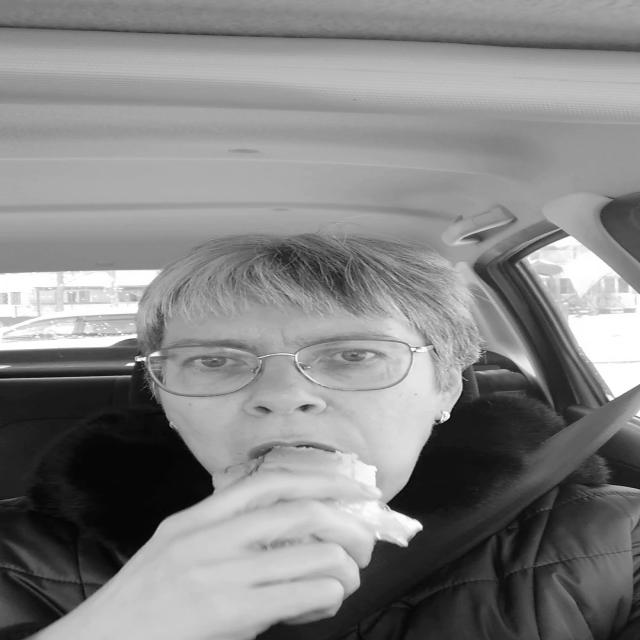Eating: (200, 433, 420, 556)
Seatbelt: (287, 384, 640, 640)
